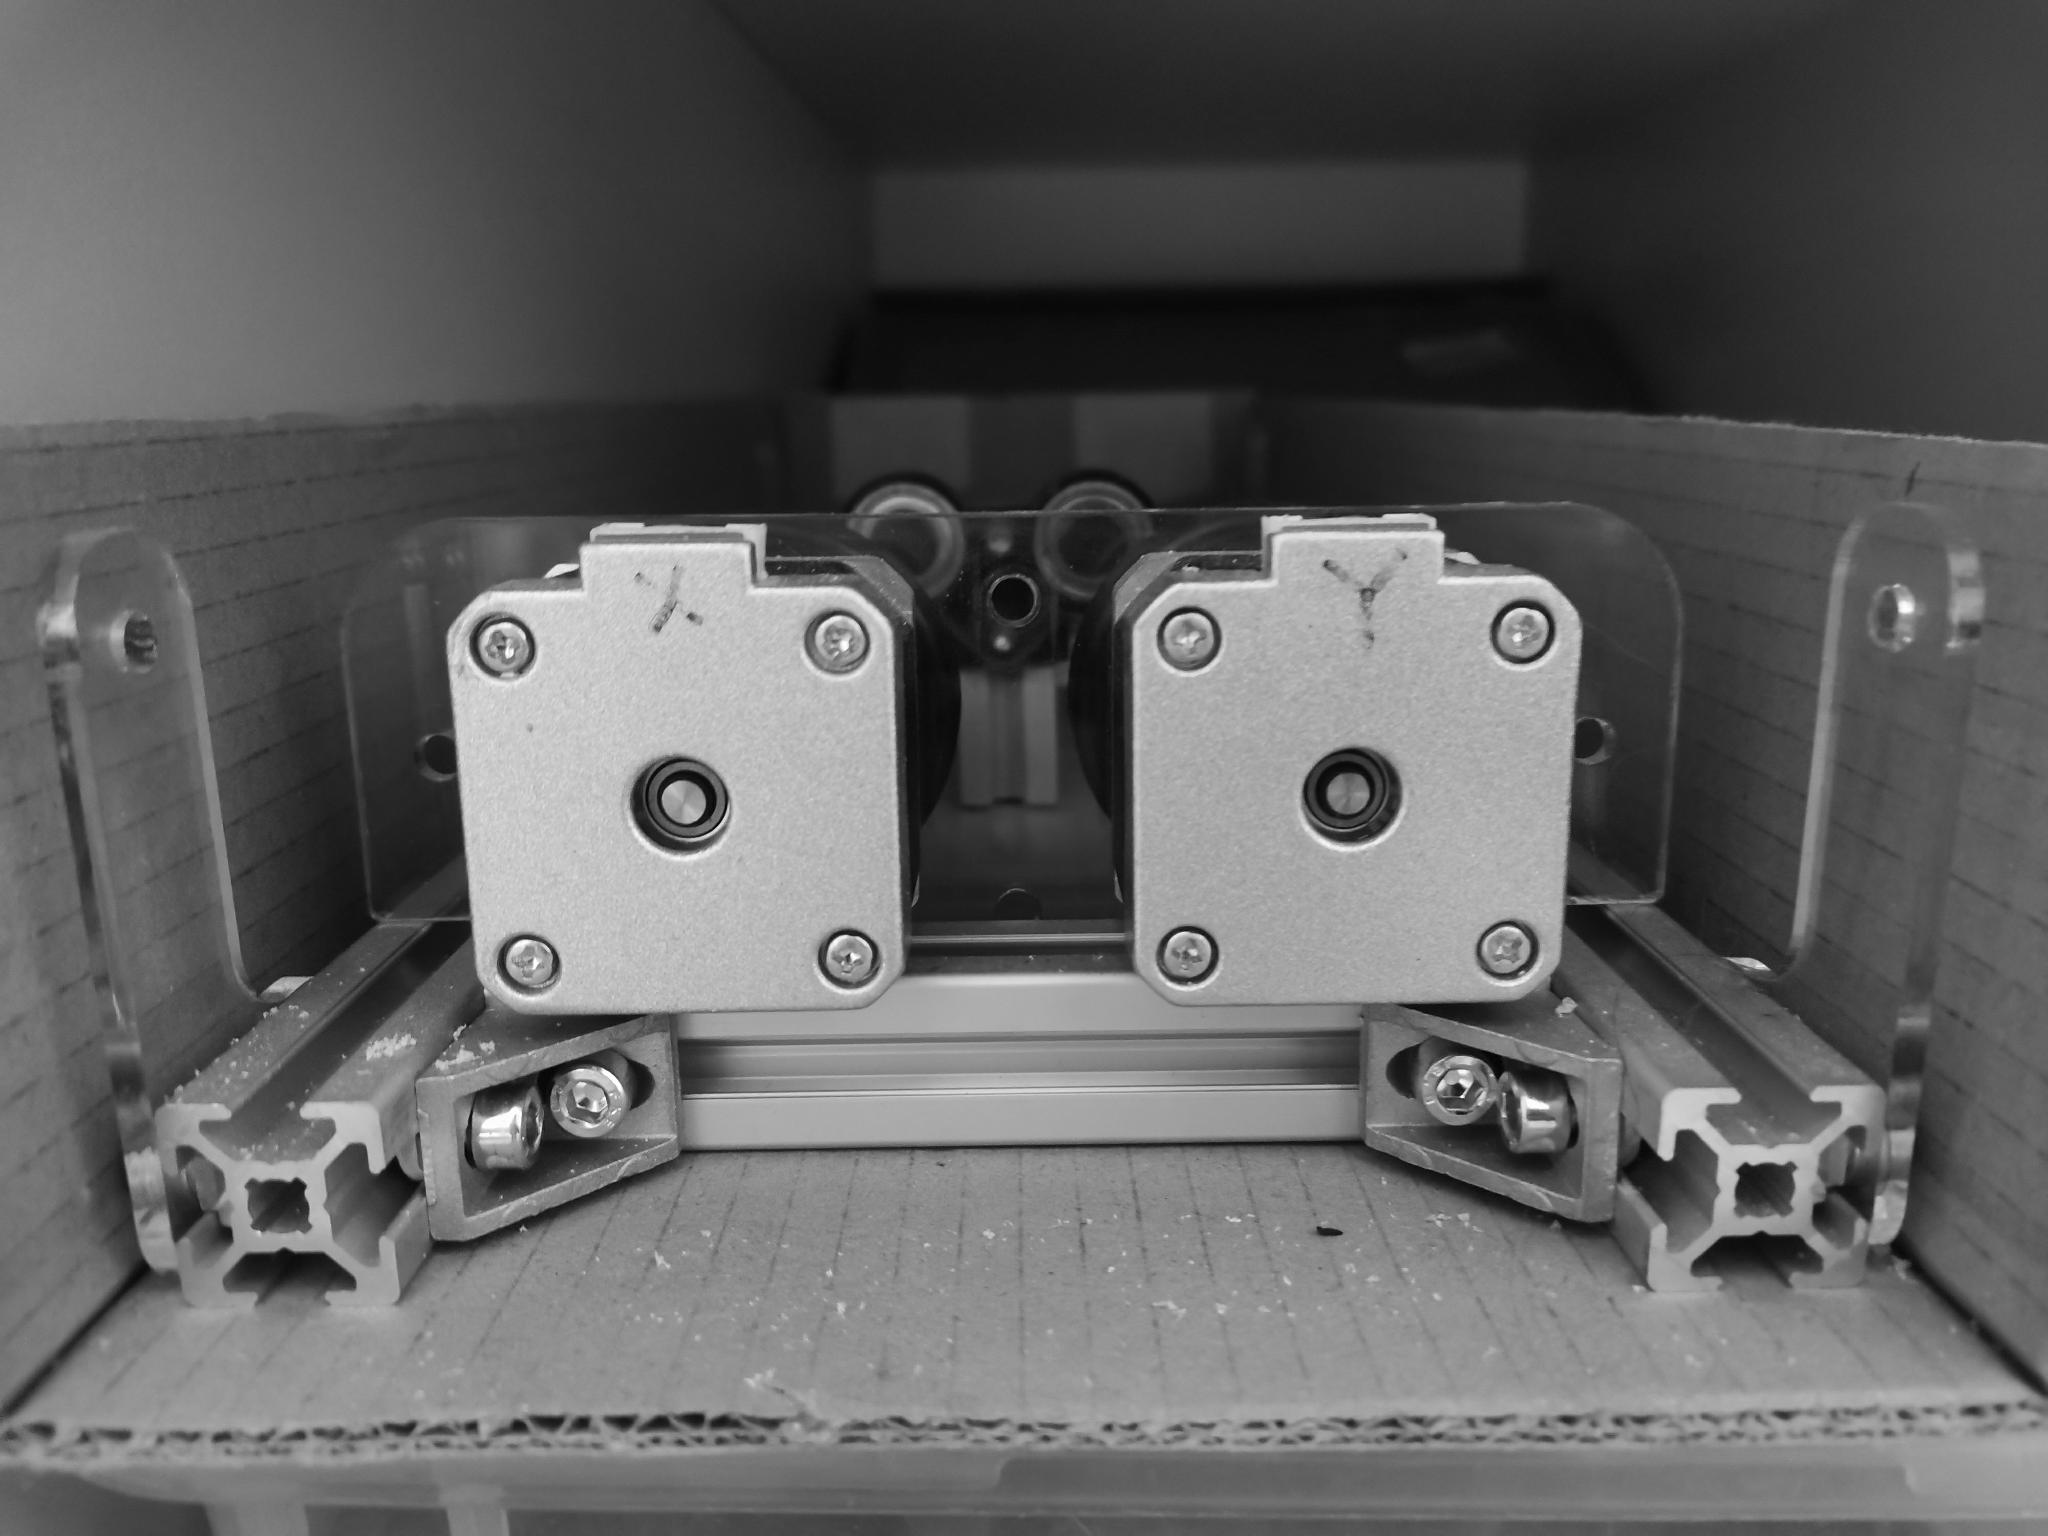allen: (542, 1055, 629, 1146), (1419, 1049, 1500, 1133)
philips-PZ: (461, 613, 537, 686), (798, 608, 871, 679), (1487, 599, 1558, 665), (1472, 918, 1542, 984), (1153, 607, 1224, 671), (813, 928, 879, 994), (1153, 928, 1221, 987), (493, 934, 558, 995)
